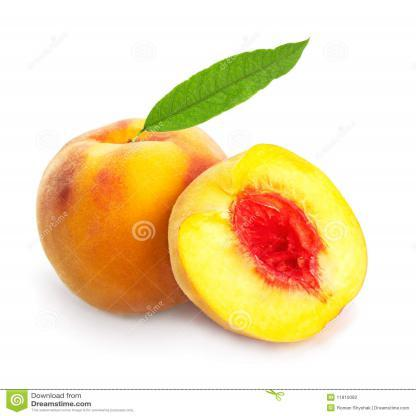Peach leaf: (133, 36, 312, 144)
